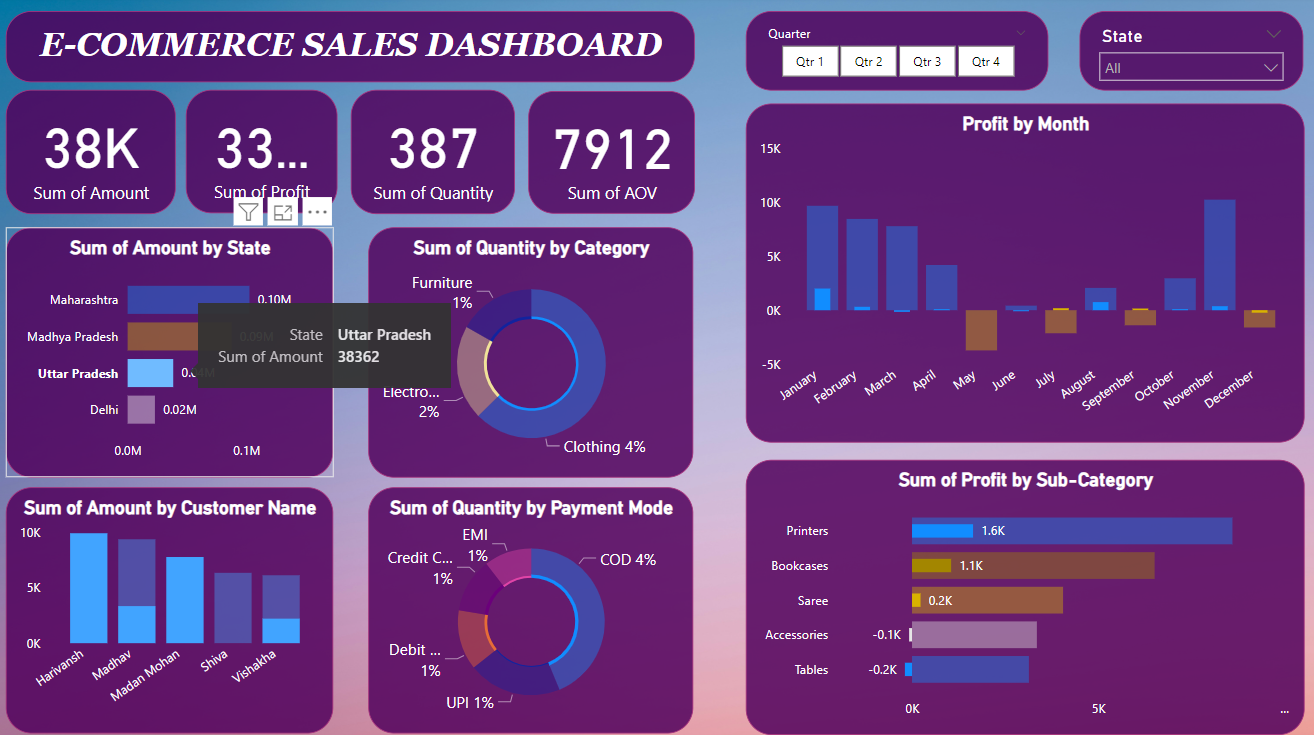

Layout of this report page (visuals, bound fields, positions):
{"tool":"powerbi","page":{"name":"Page 1","canvas":[1280,720],"ordinal":0},"visuals":[{"type":"textbox","box":[13.3,14.5,664.5,68.7],"z":0},{"type":"columnChart","title":"Profit by Month","fields":{"Category":["Orders.Order Date.Variation.Date Hierarchy.Month"],"Y":["Sum(Details.Profit)"]},"box":[727.2,103.7,539.1,326.8],"z":1000},{"type":"barChart","fields":{"Category":["Details.Sub-Category"],"Y":["Sum(Details.Profit)"]},"box":[726,445,539.1,266.5],"z":2000},{"type":"donutChart","fields":{"Category":["Details.Category"],"Y":["Sum(Details.Quantity)"]},"box":[363,223.1,313.6,241.2],"z":3000},{"type":"donutChart","title":"Sum of Quantity by Payment Mode","fields":{"Y":["Sum(Details.Quantity)"],"Category":["Details.PaymentMode"]},"box":[362.5,473.9,313.6,238.6],"z":4000},{"type":"card","fields":{"Values":["Sum(Details.Amount)"]},"box":[13,91,164,120],"z":5000},{"type":"card","fields":{"Values":["Sum(Details.Quantity)"]},"box":[346,90,158,120],"z":6000},{"type":"card","fields":{"Values":["Sum(Details.Profit)"]},"box":[187,91,146,119],"z":7000},{"type":"card","fields":{"Values":["Sum(Details.AOV)"]},"box":[517,92,161,118],"z":8000},{"type":"barChart","fields":{"Category":["Orders.State"],"Y":["Sum(Details.Amount)"]},"box":[13.3,223.1,316,241.2],"z":9000},{"type":"columnChart","title":"Sum of Amount by Customer Name","fields":{"Category":["Orders.CustomerName"],"Y":["Sum(Details.Amount)"]},"box":[13.6,473.9,315.9,238.6],"z":10000},{"type":"slicer","fields":{"Values":["Orders.Order Date.Variation.Date Hierarchy.Quarter"]},"box":[727.2,14.5,291.9,77.2],"z":11000},{"type":"slicer","fields":{"Values":["Orders.State"]},"box":[1049.2,14.5,215.9,77.2],"z":12000}]}

Visuals, with their boxes in screenshot pixels (x1, y1, x2, y2), scaled from the page's 1280x720 canvas onto the 1314x735 screenshot:
textbox: 14:15:696:85
"Profit by Month" columnChart: 747:106:1300:439
barChart - Details.Sub-Category x Sum(Details.Profit): 745:454:1299:726
donutChart - Details.Category x Sum(Details.Quantity): 373:228:695:474
"Sum of Quantity by Payment Mode" donutChart: 372:484:694:727
card - Sum(Details.Amount): 13:93:182:215
card - Sum(Details.Quantity): 355:92:517:214
card - Sum(Details.Profit): 192:93:342:214
card - Sum(Details.AOV): 531:94:696:214
barChart - Orders.State x Sum(Details.Amount): 14:228:338:474
"Sum of Amount by Customer Name" columnChart: 14:484:338:727
slicer - Orders.Order Date.Variation.Date Hierarchy.Quarter: 747:15:1046:94
slicer - Orders.State: 1077:15:1299:94
